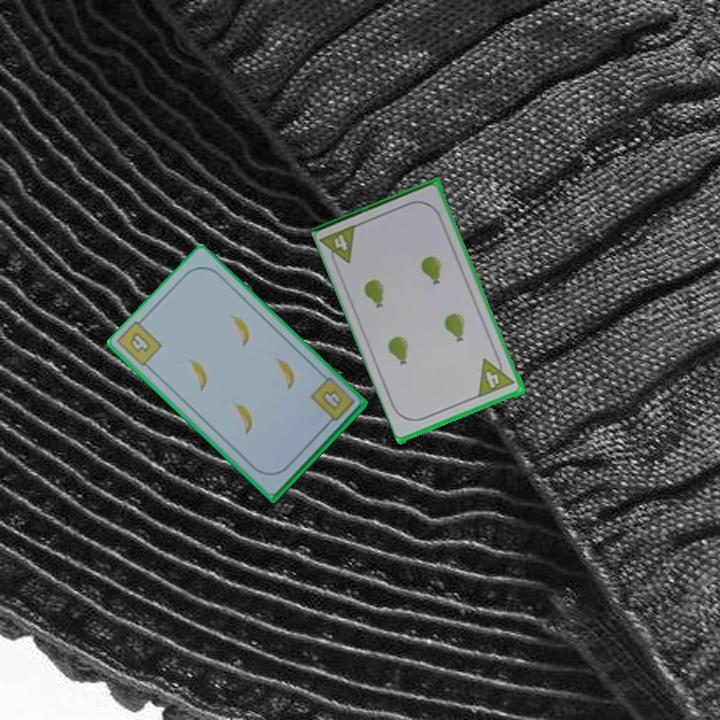4b: (307, 375, 358, 429), (125, 328, 153, 355)
4p: (318, 221, 361, 271), (475, 351, 518, 400)
